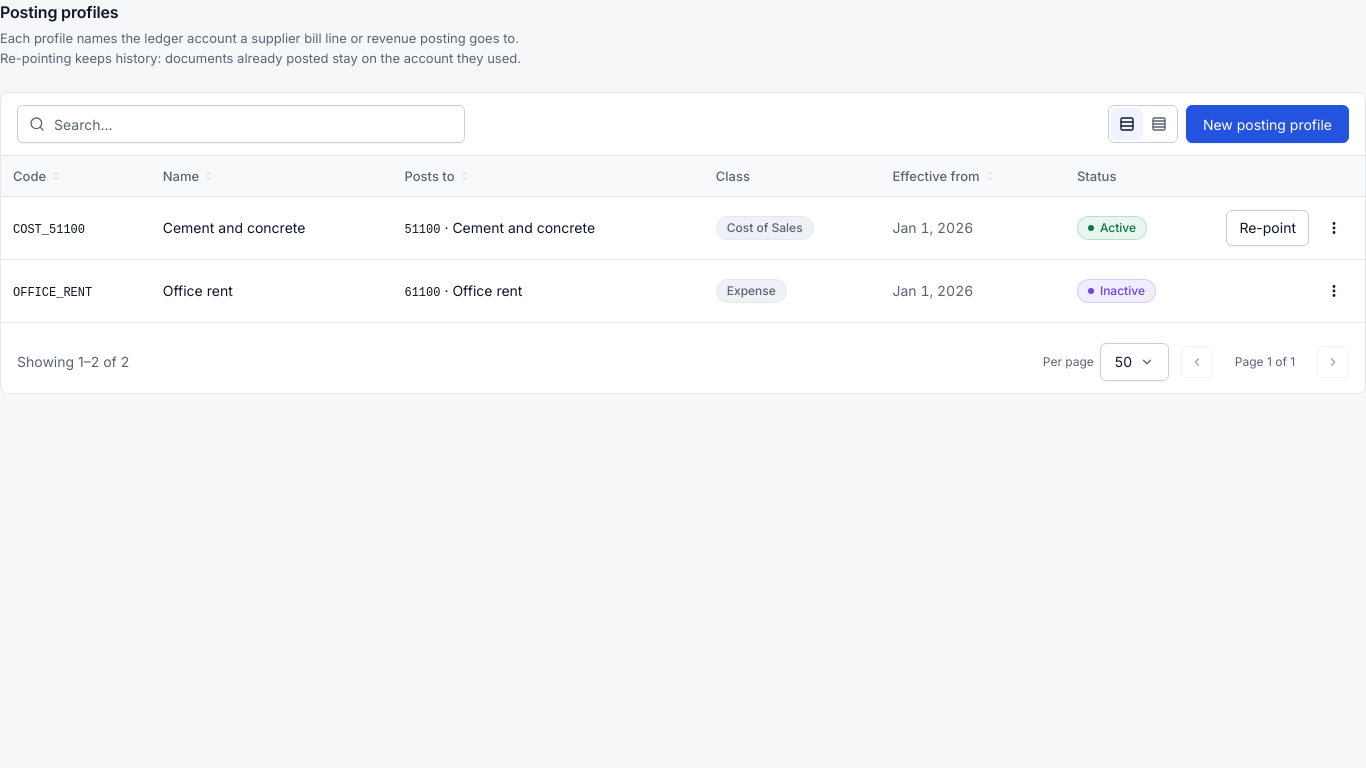
Test: PostingProfiles — re-pointing and status › explains a refused class change
The image size is (1366, 768).
Check: the text "COST_51100" is shown, box [13,222,85,236]
Click the button with aria-label "Re-point COST_51100" at (1268, 228), box [1226,210,1309,246]
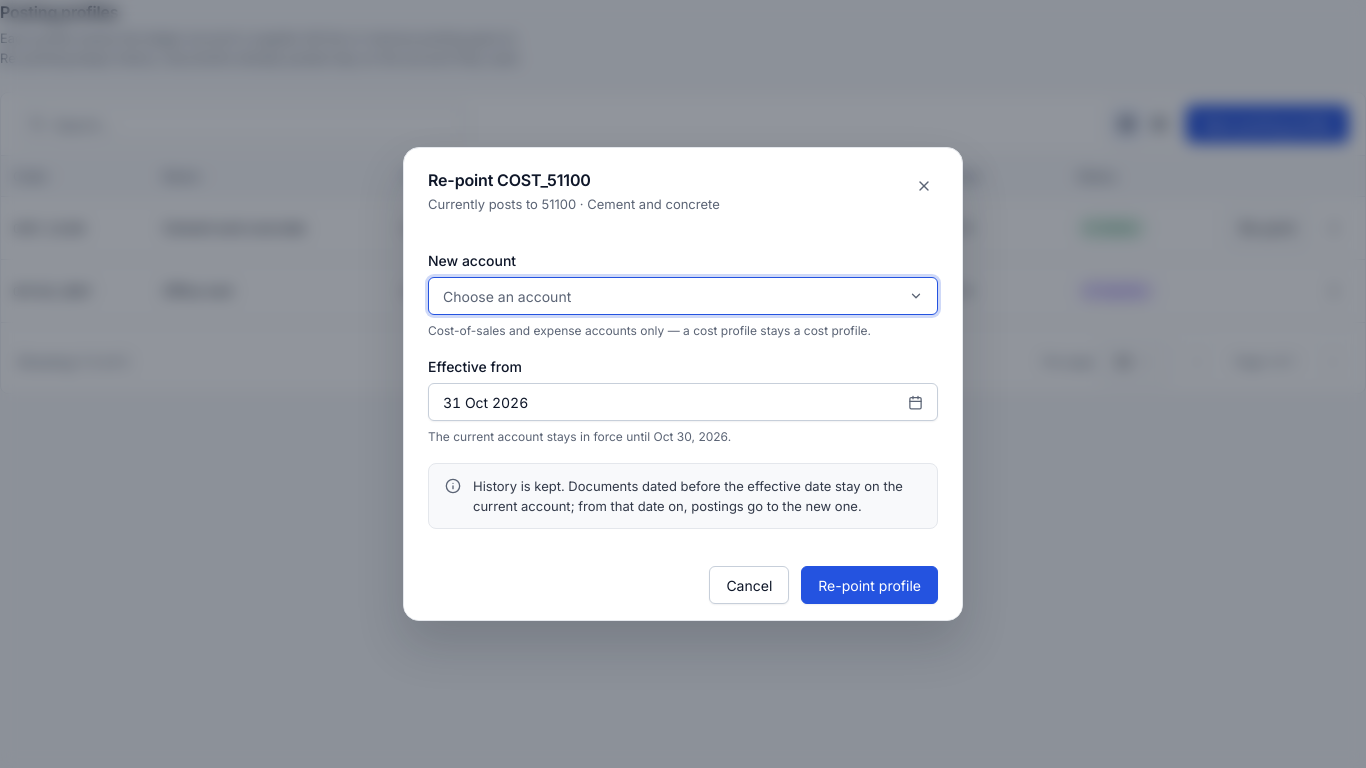
Click the dropdown named "New account" at (507, 296), box [428,277,938,315]
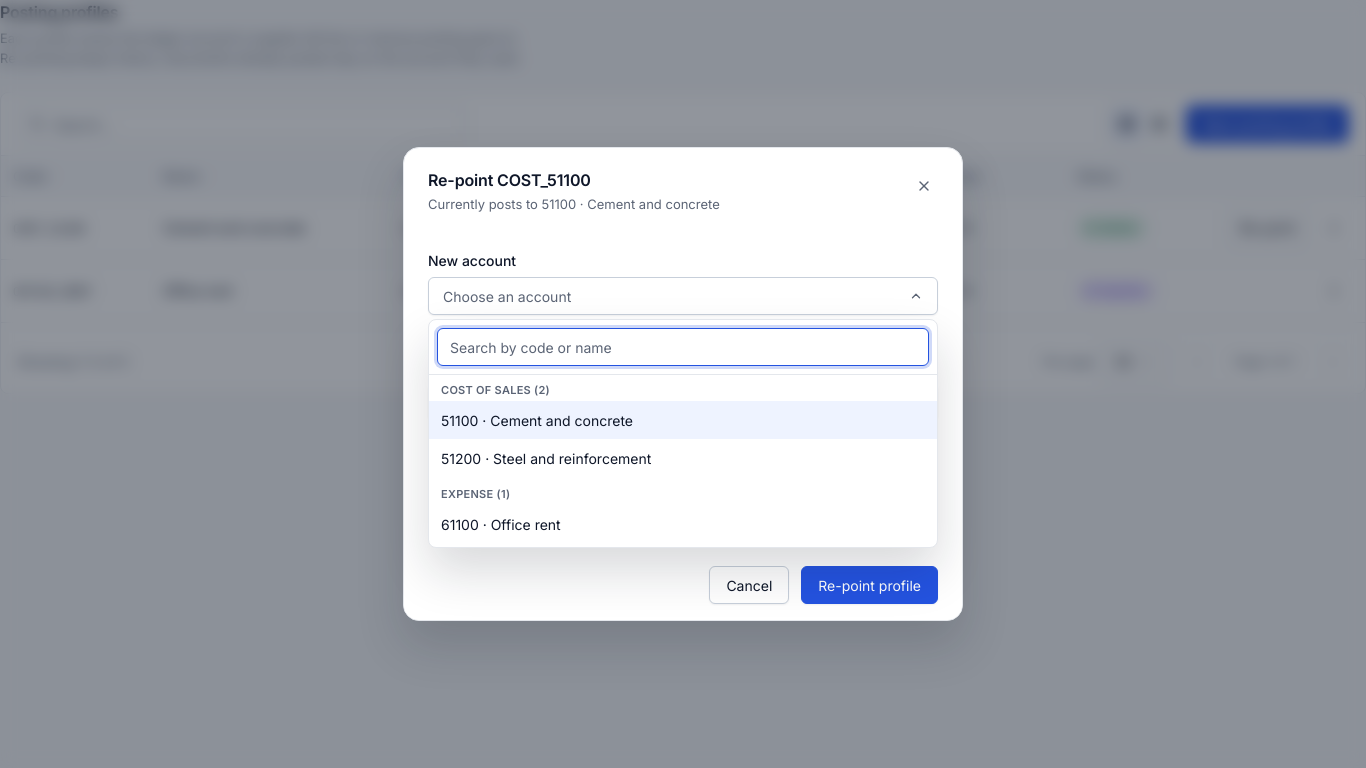
Click the option "51200 · Steel and reinforcement" at (546, 458), box [429,439,937,477]
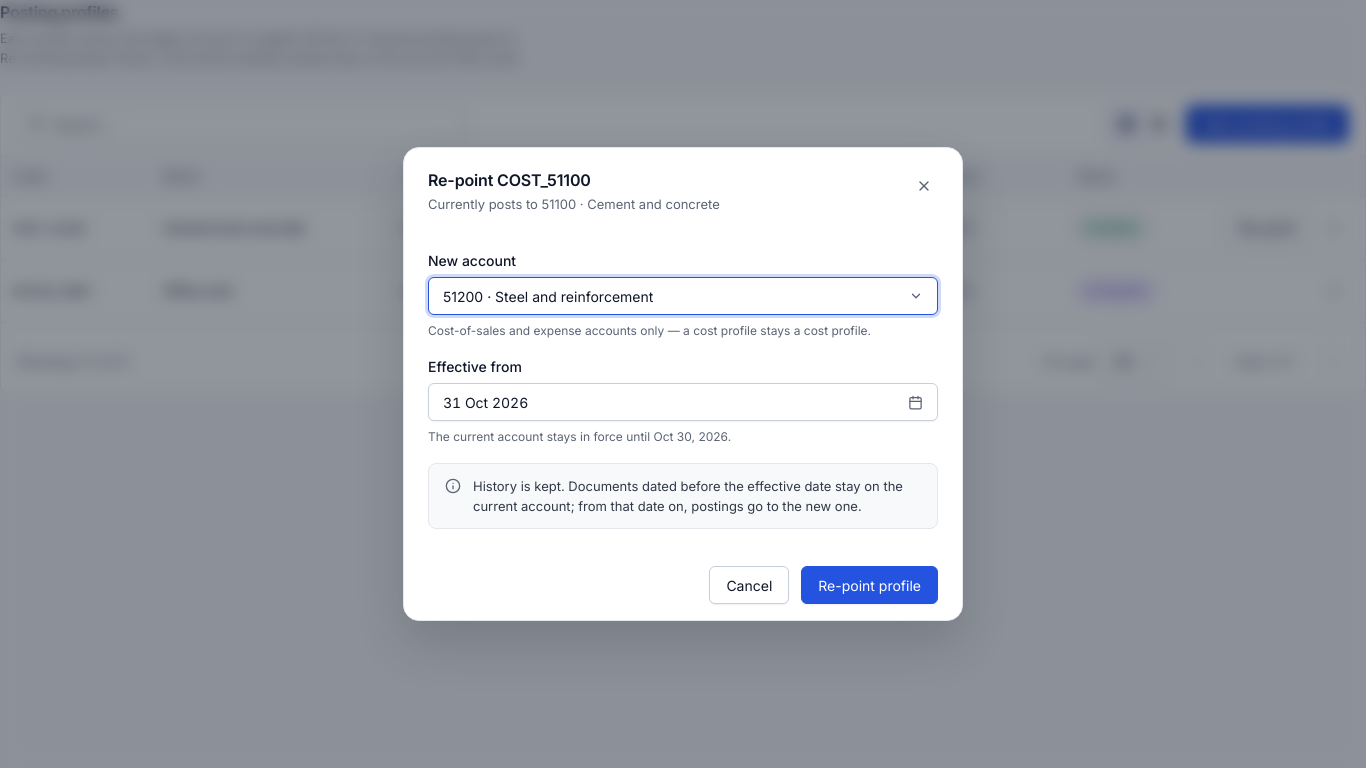
Click the button "Re-point profile" at (870, 585), box [801,566,938,604]
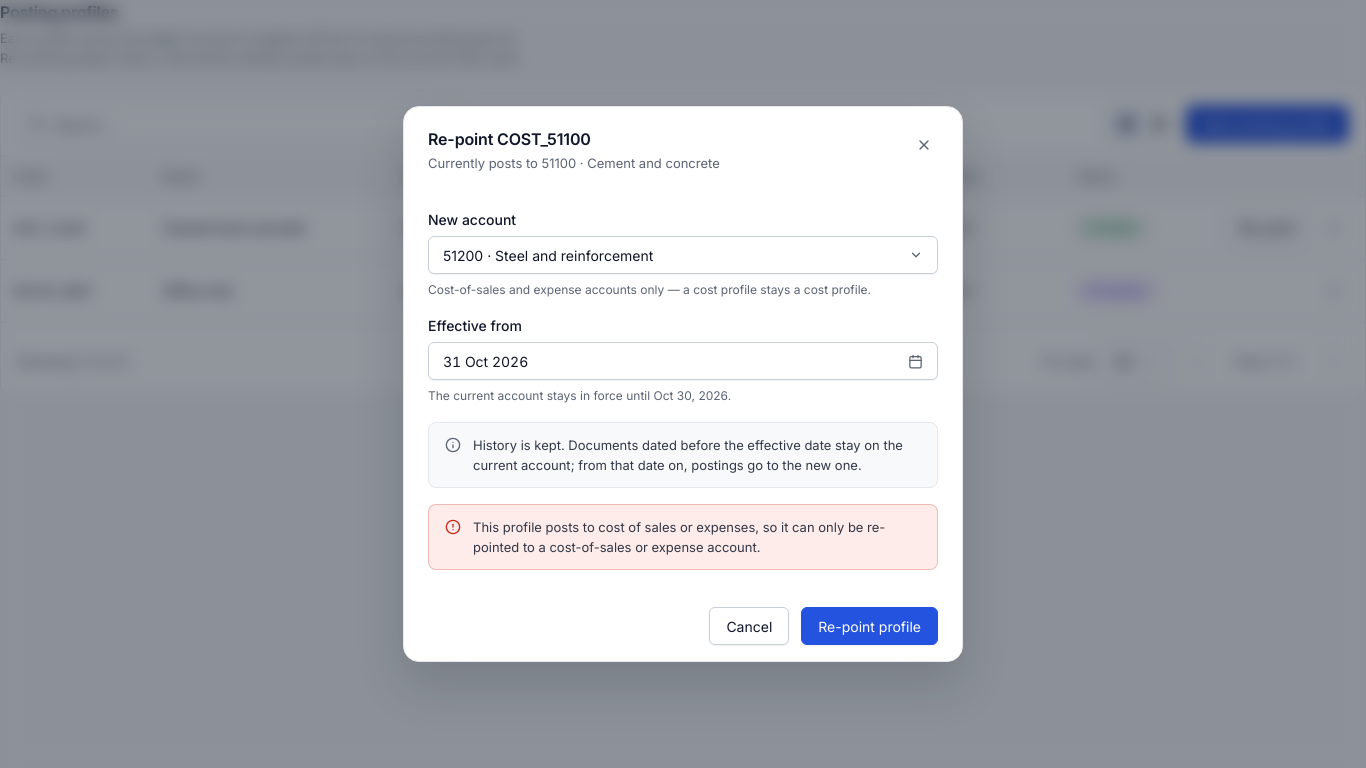
Check: the text "This profile posts to cost of sales or expenses, so it can only be re-pointed to a cost-of-sales or expense account." is shown, box [473,519,885,555]
